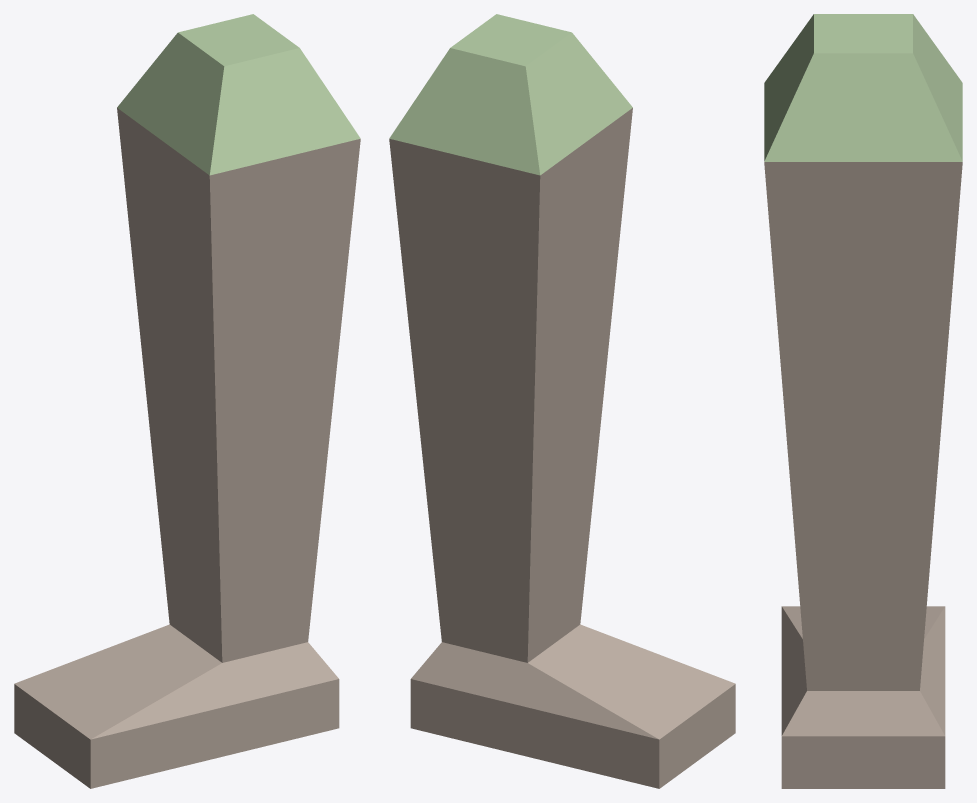
File: SoldierMutant-LowerLeg.fbx
3 views of the same model, side by side, from view 1: azimuth 30°, elevation 25°; view 2: azimuth 150°, elevation 25°; view 3: azimuth 270°, elevation 25° (orthographic). The views are drawn at different scales.
Parts seen in each view (by area): view 1: SoldierMutantLowerLeg; view 2: SoldierMutantLowerLeg; view 3: SoldierMutantLowerLeg.
Boxes of the visible parts, x1,y1,x2,y2 form: SoldierMutantLowerLeg: (14,14,360,788); SoldierMutantLowerLeg: (389,14,735,788); SoldierMutantLowerLeg: (764,14,962,788).
Size of the model in its own units: 0.272 by 0.6698 by 0.1668.
